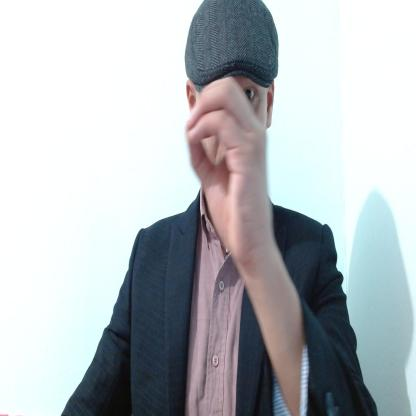O: (182, 78, 271, 262)
